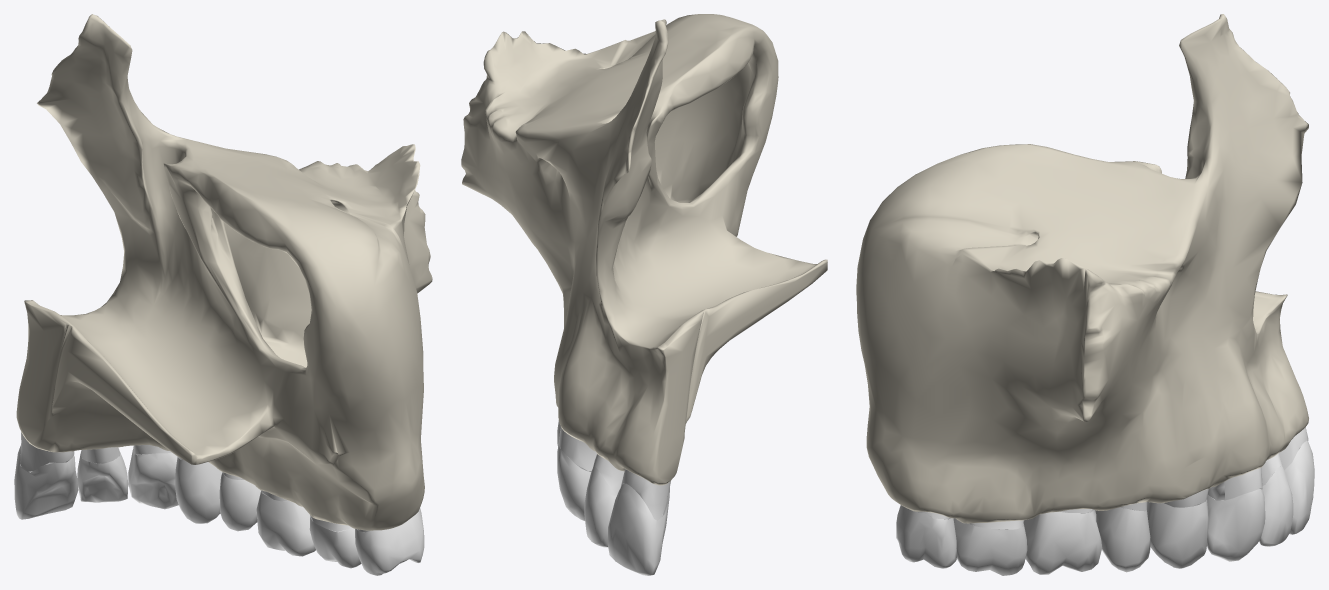
The picture shows the model from 3 angles, left to right: view 1: azimuth 30°, elevation 25°; view 2: azimuth 150°, elevation 25°; view 3: azimuth 270°, elevation 25°; orthographic projection.
Parts seen in each view (by area): view 1: maxilla-r, SKLT240, SKLT129, SKLT186, SKLT170, SKLT206, SKLT193, SKLT213, SKLT146; view 2: maxilla-r, SKLT240, SKLT170, SKLT206; view 3: maxilla-r, SKLT170, SKLT186, SKLT193, SKLT146, SKLT129, SKLT213, SKLT240, SKLT206.
Part boxes in pixels (x1,y1,x2,y2): maxilla-r: [16, 14, 432, 530]; SKLT240: [14, 432, 78, 519]; SKLT129: [355, 508, 424, 575]; SKLT186: [256, 490, 315, 556]; SKLT170: [128, 445, 178, 509]; SKLT206: [77, 447, 128, 502]; SKLT193: [175, 456, 222, 523]; SKLT213: [219, 472, 260, 531]; SKLT146: [309, 515, 361, 568]; maxilla-r: [461, 14, 827, 485]; SKLT240: [607, 469, 670, 575]; SKLT170: [557, 426, 596, 520]; SKLT206: [584, 454, 624, 547]; maxilla-r: [856, 14, 1308, 523]; SKLT170: [1207, 467, 1265, 561]; SKLT186: [1023, 509, 1102, 574]; SKLT193: [1147, 489, 1208, 568]; SKLT146: [953, 518, 1027, 575]; SKLT129: [896, 505, 956, 568]; SKLT213: [1095, 502, 1150, 572]; SKLT240: [1279, 427, 1314, 534]; SKLT206: [1259, 453, 1293, 546].
Bounding box in the file's own units: 0.4749 × 0.7817 × 0.6247.
3 materials, 1 textured.
